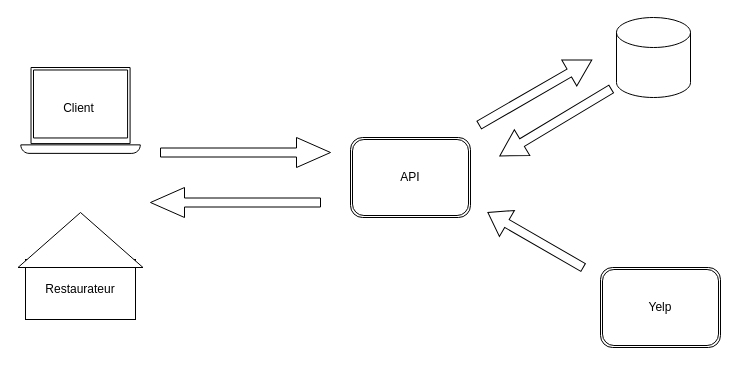
Image size: 738x365. Some labels were removed from this diagram. The shapes that lost their labels are listed below. From the top down, each one's centre as x and y in pixels, then its label:
the point at 653,57: Base de données
the point at 80,240: OU
